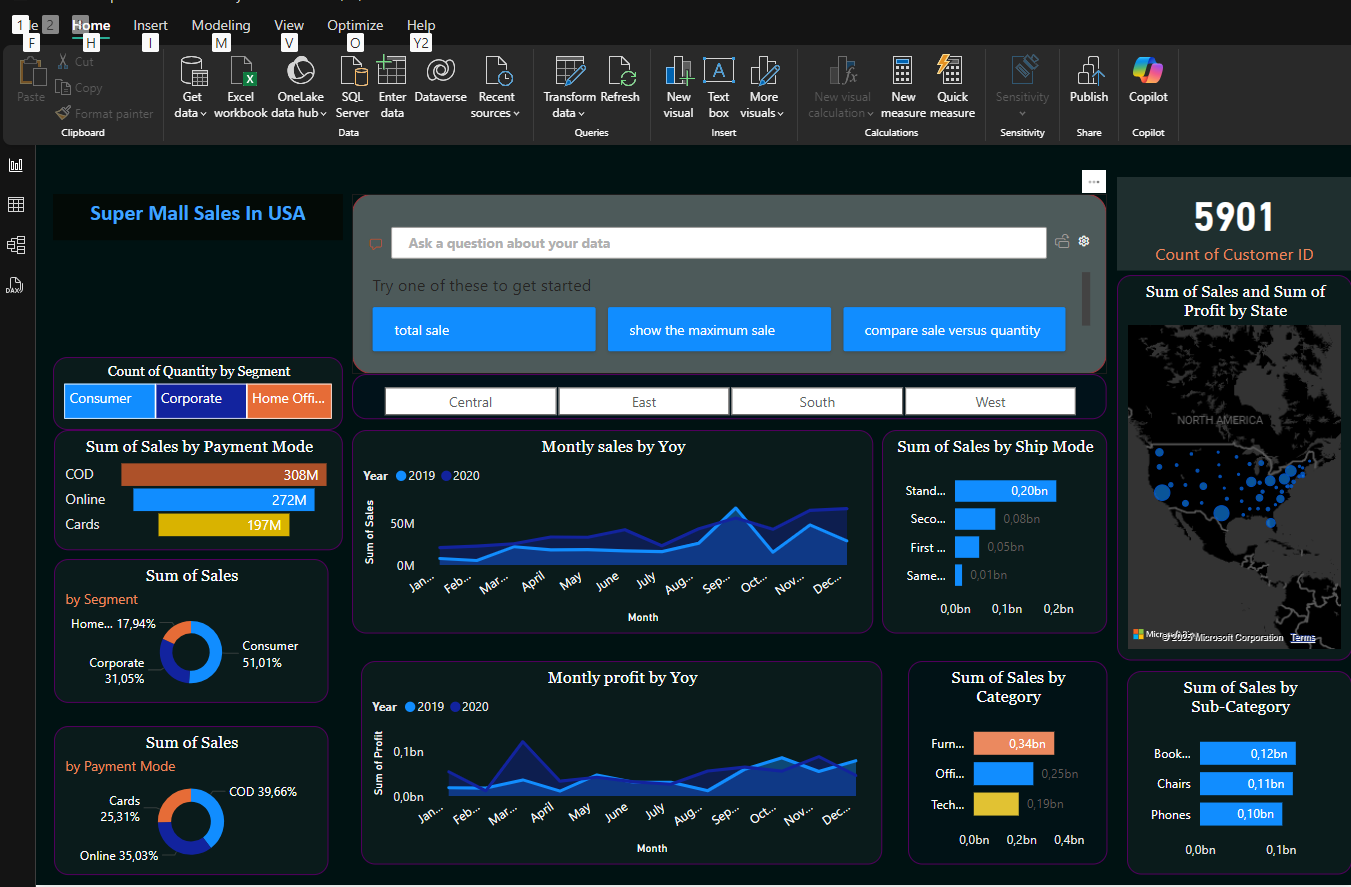

The page's visual inventory and layout, read from the dashboard file:
{"tool":"powerbi","page":{"name":"Page 1","canvas":[1280,720],"ordinal":0},"visuals":[{"type":"clusteredBarChart","fields":{"Category":["SuperStore_Sales_Dataset.Category"],"Y":["Sum(SuperStore_Sales_Dataset.Sales)"]},"box":[848.1,501.9,193.6,198.4],"z":0},{"type":"clusteredBarChart","fields":{"Category":["SuperStore_Sales_Dataset.Sub-Category"],"Y":["Sum(SuperStore_Sales_Dataset.Sales)"]},"box":[1061.2,511.6,218.8,198.4],"z":1000},{"type":"card","fields":{"Values":["CountNonNull(SuperStore_Sales_Dataset.Customer ID)"]},"box":[1051.4,31.1,228.6,91.4],"z":2000},{"type":"clusteredBarChart","fields":{"Category":["SuperStore_Sales_Dataset.Ship Mode"],"Y":["Sum(SuperStore_Sales_Dataset.Sales)"]},"box":[822.9,277.2,218.8,198.4],"z":3000},{"type":"areaChart","title":" Montly sales by Yoy","fields":{"Y":["Sum(SuperStore_Sales_Dataset.Sales)"],"Category":["SuperStore_Sales_Dataset.Order Date.Variation.Date Hierarchy.Month","SuperStore_Sales_Dataset.Order Date.Variation.Date Hierarchy.Day"],"Series":["SuperStore_Sales_Dataset.Order Date.Variation.Date Hierarchy.Year"]},"box":[307.4,277.2,506.7,198.4],"z":4000},{"type":"areaChart","title":" Montly profit by Yoy","fields":{"Category":["SuperStore_Sales_Dataset.Order Date.Variation.Date Hierarchy.Month","SuperStore_Sales_Dataset.Order Date.Variation.Date Hierarchy.Day"],"Series":["SuperStore_Sales_Dataset.Order Date.Variation.Date Hierarchy.Year"],"Y":["Sum(SuperStore_Sales_Dataset.Profit)"]},"box":[316.1,501.9,506.7,198.4],"z":5000},{"type":"map","fields":{"Category":["SuperStore_Sales_Dataset.State"],"Size":["Sum(SuperStore_Sales_Dataset.Sales)"]},"box":[1051.4,126.4,228.6,375.4],"z":6000},{"type":"donutChart","fields":{"Y":["Sum(SuperStore_Sales_Dataset.Sales)"],"Category":["SuperStore_Sales_Dataset.Segment"]},"box":[17.5,402.7,266.5,140.1],"z":7000},{"type":"donutChart","fields":{"Y":["Sum(SuperStore_Sales_Dataset.Sales)"],"Category":["SuperStore_Sales_Dataset.Payment Mode"]},"box":[17.5,565.1,266.5,144.9],"z":8000},{"type":"slicer","fields":{"Values":["SuperStore_Sales_Dataset.Region"]},"box":[307.4,222.7,734.3,43.8],"z":9000},{"type":"funnel","fields":{"Category":["SuperStore_Sales_Dataset.Payment Mode"],"Y":["Sum(SuperStore_Sales_Dataset.Sales)"]},"box":[17.5,277.2,281.1,116.7],"z":10000},{"type":"treemap","fields":{"Group":["SuperStore_Sales_Dataset.Segment"],"Values":["Count(SuperStore_Sales_Dataset.Quantity)"]},"box":[16.5,206.2,282.1,71],"z":11000},{"type":"qnaVisual","box":[307.4,47.7,734.3,175.1],"z":12000},{"type":"textbox","box":[16.5,47.7,282.1,44.7],"z":13000}]}

Visuals, with their boxes on the page's 1280x720 design canvas (x1, y1, x2, y2). These are canvas units, not pixel positions in the 1351x887 screenshot, which may show the page scaled, cropped or inside an application window:
clusteredBarChart - SuperStore_Sales_Dataset.Category x Sum(SuperStore_Sales_Dataset.Sales): [left=848, top=502, right=1042, bottom=700]
clusteredBarChart - SuperStore_Sales_Dataset.Sub-Category x Sum(SuperStore_Sales_Dataset.Sales): [left=1061, top=512, right=1280, bottom=710]
card - CountNonNull(SuperStore_Sales_Dataset.Customer ID): [left=1051, top=31, right=1280, bottom=122]
clusteredBarChart - SuperStore_Sales_Dataset.Ship Mode x Sum(SuperStore_Sales_Dataset.Sales): [left=823, top=277, right=1042, bottom=476]
" Montly sales by Yoy" areaChart: [left=307, top=277, right=814, bottom=476]
" Montly profit by Yoy" areaChart: [left=316, top=502, right=823, bottom=700]
map - SuperStore_Sales_Dataset.State x Sum(SuperStore_Sales_Dataset.Sales): [left=1051, top=126, right=1280, bottom=502]
donutChart - Sum(SuperStore_Sales_Dataset.Sales) x SuperStore_Sales_Dataset.Segment: [left=18, top=403, right=284, bottom=543]
donutChart - Sum(SuperStore_Sales_Dataset.Sales) x SuperStore_Sales_Dataset.Payment Mode: [left=18, top=565, right=284, bottom=710]
slicer - SuperStore_Sales_Dataset.Region: [left=307, top=223, right=1042, bottom=266]
funnel - SuperStore_Sales_Dataset.Payment Mode x Sum(SuperStore_Sales_Dataset.Sales): [left=18, top=277, right=299, bottom=394]
treemap - SuperStore_Sales_Dataset.Segment x Count(SuperStore_Sales_Dataset.Quantity): [left=16, top=206, right=299, bottom=277]
qnaVisual: [left=307, top=48, right=1042, bottom=223]
textbox: [left=16, top=48, right=299, bottom=92]
